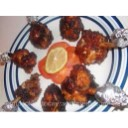chicken_lollipop: (62, 67, 128, 109), (80, 29, 128, 67), (1, 75, 42, 112), (43, 81, 88, 114), (2, 44, 36, 71), (24, 17, 54, 47), (57, 15, 87, 43)
